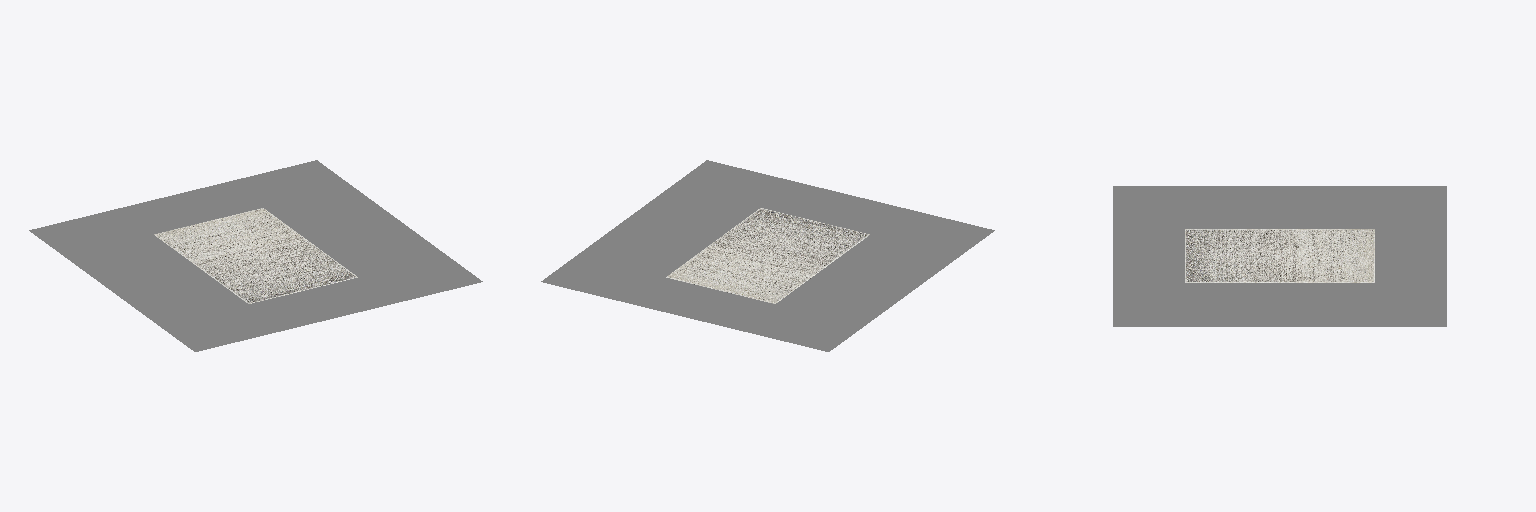
3 renders of one model, left to right at view 1: azimuth 30°, elevation 25°; view 2: azimuth 150°, elevation 25°; view 3: azimuth 270°, elevation 25°, orthographic.
Parts seen in each view (by area): view 1: shadow_plane_v6, not_clear_obj_0_v6; view 2: shadow_plane_v6, not_clear_obj_0_v6; view 3: shadow_plane_v6, not_clear_obj_0_v6.
Part boxes in pixels (x1,y1,x2,y2): shadow_plane_v6: (29, 160, 482, 351); not_clear_obj_0_v6: (154, 208, 357, 303); shadow_plane_v6: (541, 160, 994, 351); not_clear_obj_0_v6: (666, 208, 869, 303); shadow_plane_v6: (1113, 186, 1446, 326); not_clear_obj_0_v6: (1185, 229, 1374, 282).
Size of the model in its own units: 480 by 0.6918 by 480.
2 materials, 1 textured.